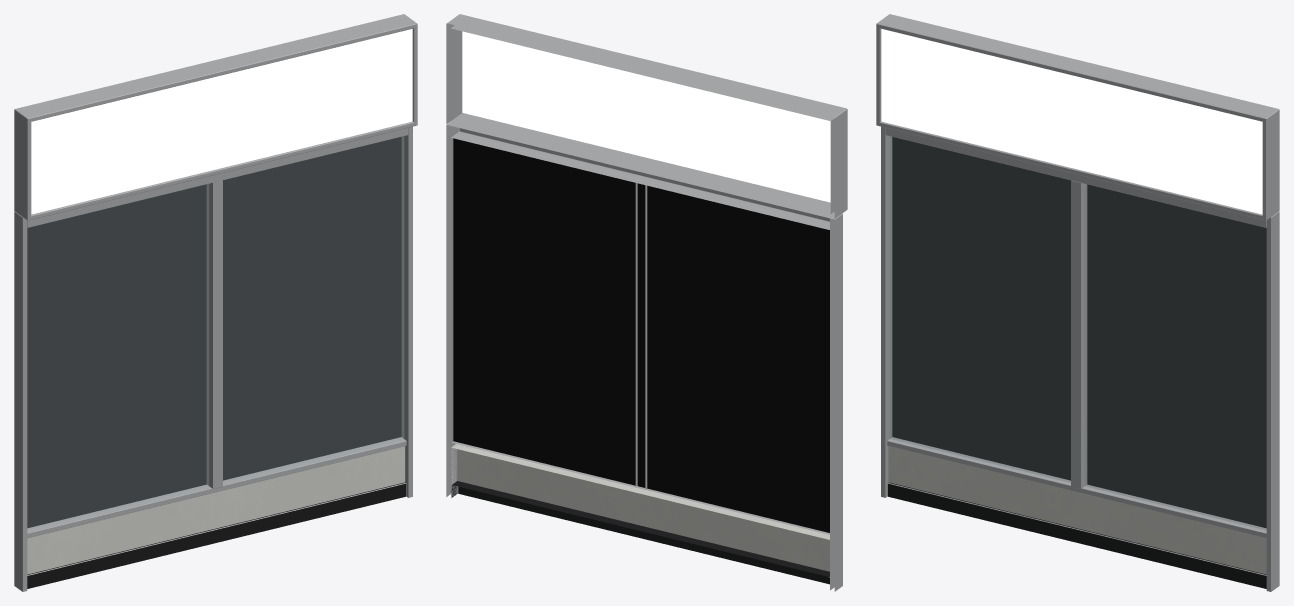
File: gteki_shopfront_glazing_w2400.glb
3 renders of one model, left to right at view 1: azimuth 30°, elevation 25°; view 2: azimuth 150°, elevation 25°; view 3: azimuth 330°, elevation 25°, orthographic.
Visible parts, largest first — view 1: VIS_glass, VIS_backing, VIS_art, VIS_frame, VIS_panels, VIS_fascia; view 2: VIS_backing, VIS_art, VIS_panels, VIS_frame, VIS_fascia; view 3: VIS_glass, VIS_backing, VIS_art, VIS_frame, VIS_panels, VIS_fascia.
Part boxes in pixels (x1=…): VIS_glass: x1=27, y1=136, x2=404, y2=530; VIS_backing: x1=27, y1=137, x2=401, y2=527; VIS_art: x1=31, y1=29, x2=412, y2=214; VIS_frame: x1=14, y1=126, x2=412, y2=591; VIS_panels: x1=27, y1=446, x2=406, y2=588; VIS_fascia: x1=14, y1=14, x2=417, y2=220; VIS_backing: x1=453, y1=138, x2=829, y2=532; VIS_art: x1=462, y1=31, x2=830, y2=202; VIS_panels: x1=451, y1=444, x2=829, y2=584; VIS_frame: x1=446, y1=122, x2=842, y2=591; VIS_fascia: x1=446, y1=14, x2=847, y2=218; VIS_glass: x1=889, y1=136, x2=1266, y2=530; VIS_backing: x1=892, y1=137, x2=1266, y2=527; VIS_art: x1=881, y1=29, x2=1262, y2=214; VIS_frame: x1=881, y1=126, x2=1279, y2=591; VIS_panels: x1=887, y1=446, x2=1266, y2=588; VIS_fascia: x1=876, y1=14, x2=1279, y2=220.
Size of the model in its own units: 2.4 by 2.8 by 0.14.
6 materials, 1 textured.
